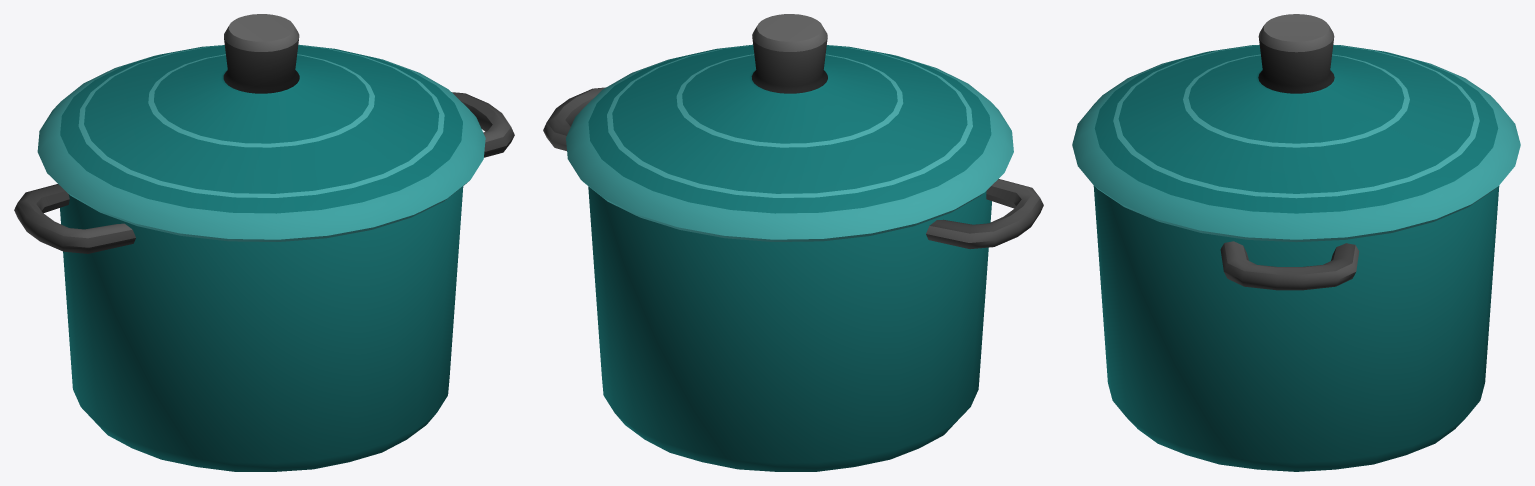
File: Pan_18.fbx
The picture shows the model from 3 angles, left to right: view 1: azimuth 30°, elevation 25°; view 2: azimuth 150°, elevation 25°; view 3: azimuth 270°, elevation 25°; orthographic projection.
Parts seen in each view (by area): view 1: Pan_18, Pan_18 Top; view 2: Pan_18, Pan_18 Top; view 3: Pan_18, Pan_18 Top.
Part boxes in pixels (x1=…): Pan_18: x1=14, y1=92, x2=514, y2=471; Pan_18 Top: x1=37, y1=14, x2=485, y2=241; Pan_18: x1=543, y1=87, x2=1043, y2=471; Pan_18 Top: x1=566, y1=14, x2=1013, y2=241; Pan_18: x1=1093, y1=185, x2=1499, y2=471; Pan_18 Top: x1=1072, y1=14, x2=1520, y2=242.
Size of the model in its own units: 0.3038 by 0.2294 by 0.2526.
